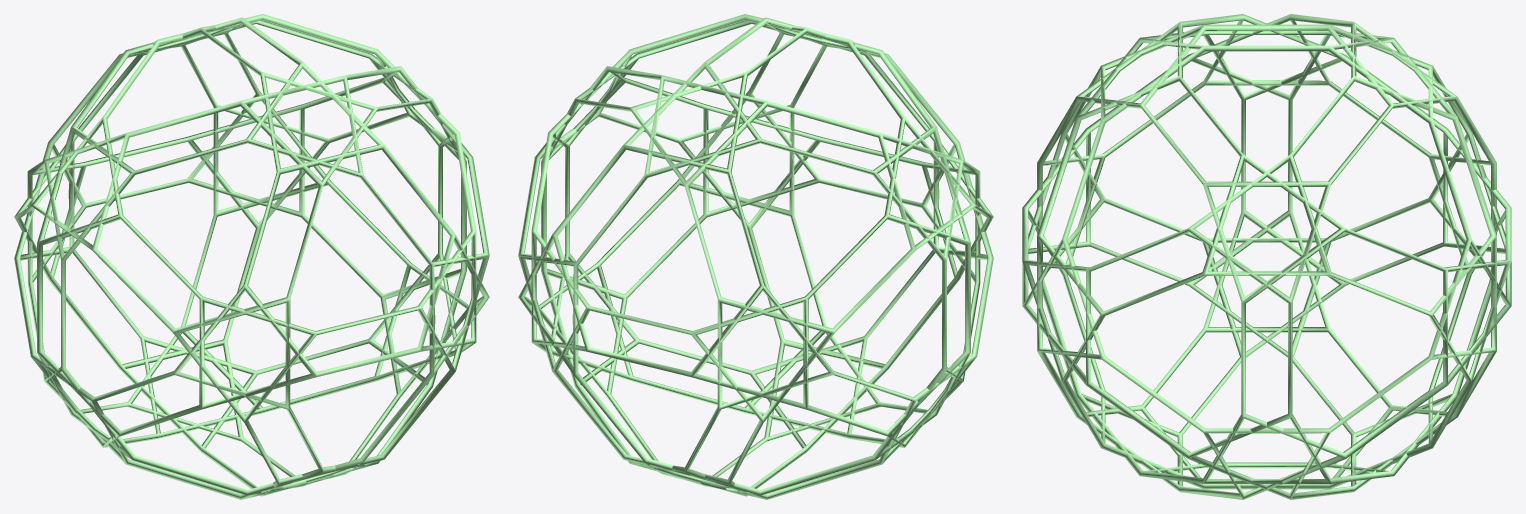
The model's file is IcositruncatedDodecadodecahedron1.glb.
3 views of the same model, side by side, from view 1: azimuth 30°, elevation 25°; view 2: azimuth 150°, elevation 25°; view 3: azimuth 270°, elevation 25° (orthographic). The views are drawn at different scales.
Parts seen in each view (by area): view 1: IcositruncatedDodecadodecahedron; view 2: IcositruncatedDodecadodecahedron; view 3: IcositruncatedDodecadodecahedron.
Part boxes in pixels (x1=…): IcositruncatedDodecadodecahedron: x1=14, y1=14, x2=489, y2=499; IcositruncatedDodecadodecahedron: x1=518, y1=14, x2=993, y2=499; IcositruncatedDodecadodecahedron: x1=1022, y1=14, x2=1511, y2=499.
Size of the model in its own units: 3.9 by 3.9 by 3.9.
